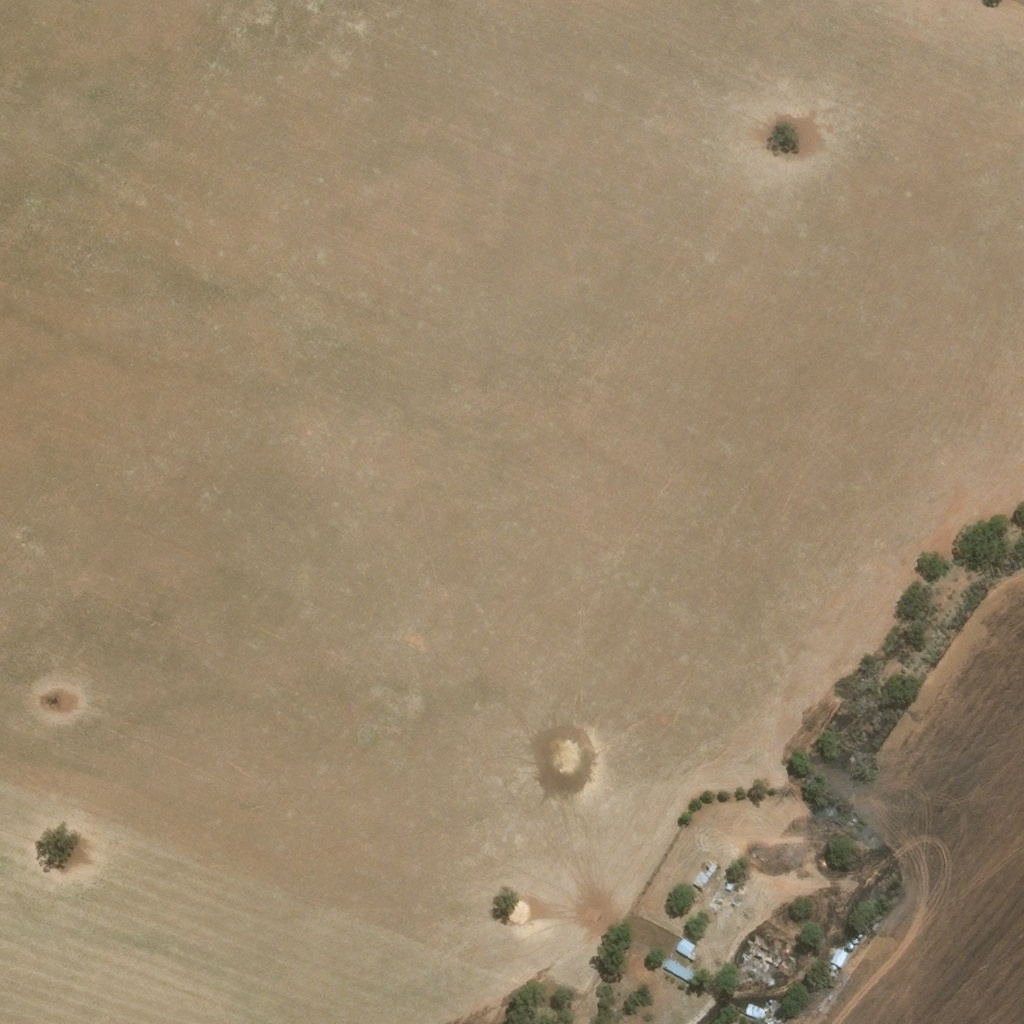0 no-damage: (662, 958, 697, 984), (674, 937, 697, 960), (829, 948, 849, 970)
1 minor-damage: (847, 943, 856, 952)
3 destroyed: (749, 943, 785, 974), (745, 1002, 782, 1023), (817, 858, 829, 869)
4 un-classified: (652, 932, 664, 944), (825, 945, 836, 955)
